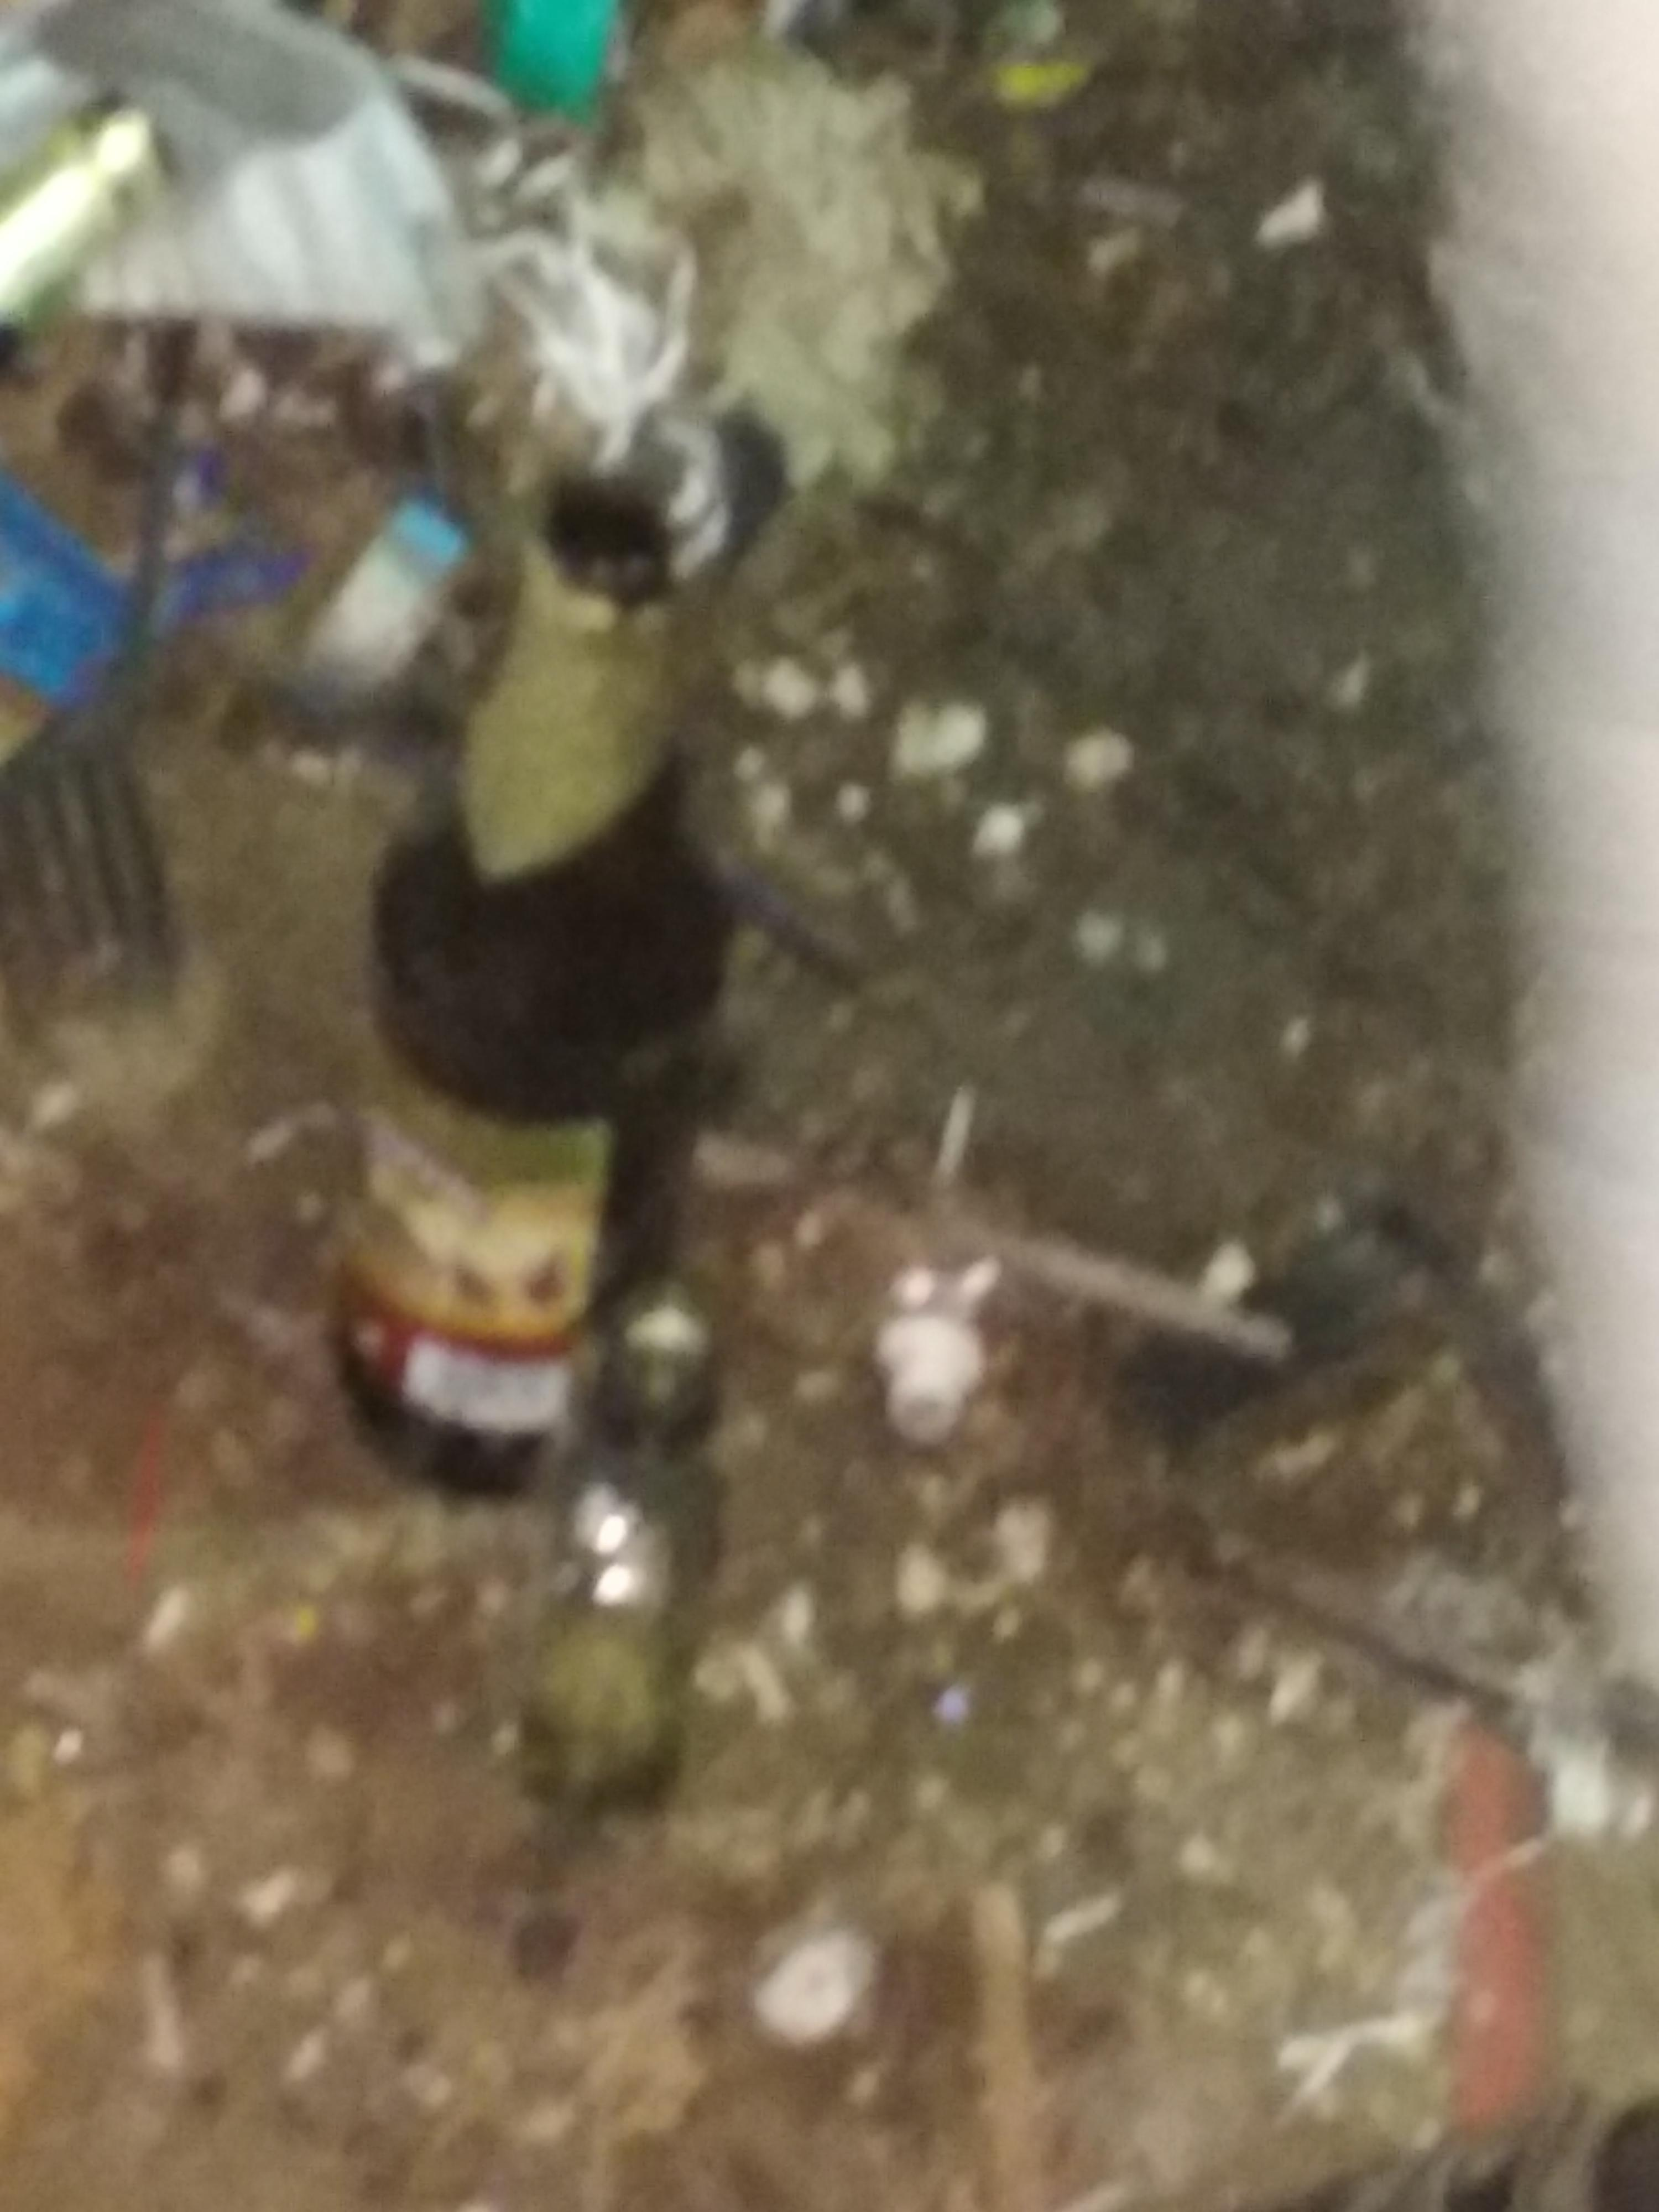trash: (29, 388, 1658, 1864)
